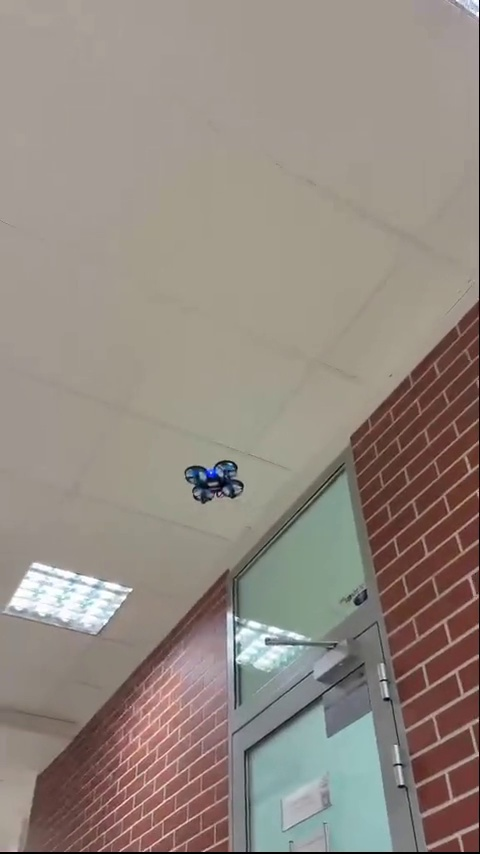drone: (189, 457, 248, 503)
